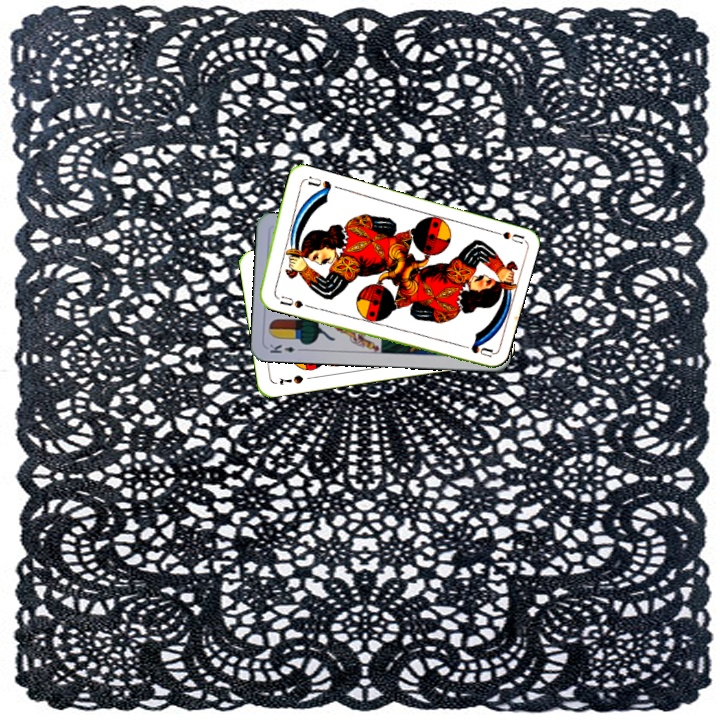EK: (266, 340, 306, 356)
S7: (275, 371, 306, 387)
SU: (484, 225, 525, 246), (276, 292, 306, 311)
